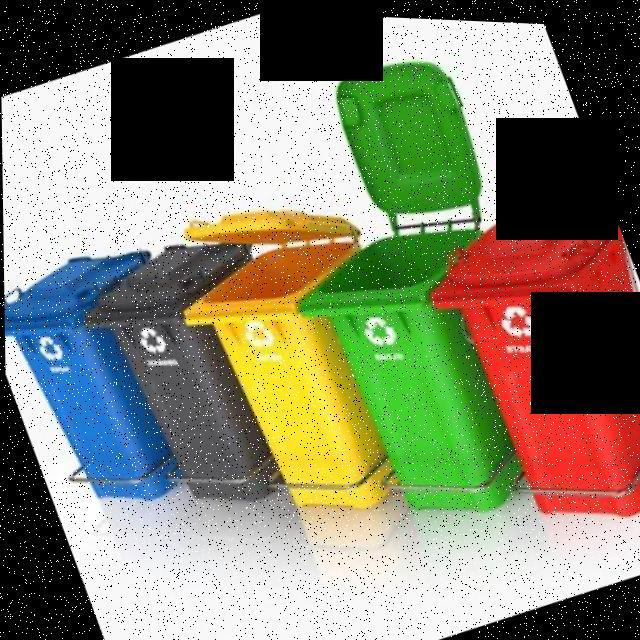bin: (221, 15, 621, 548), (148, 159, 472, 586), (59, 198, 320, 540), (431, 160, 640, 554), (2, 202, 231, 546)
